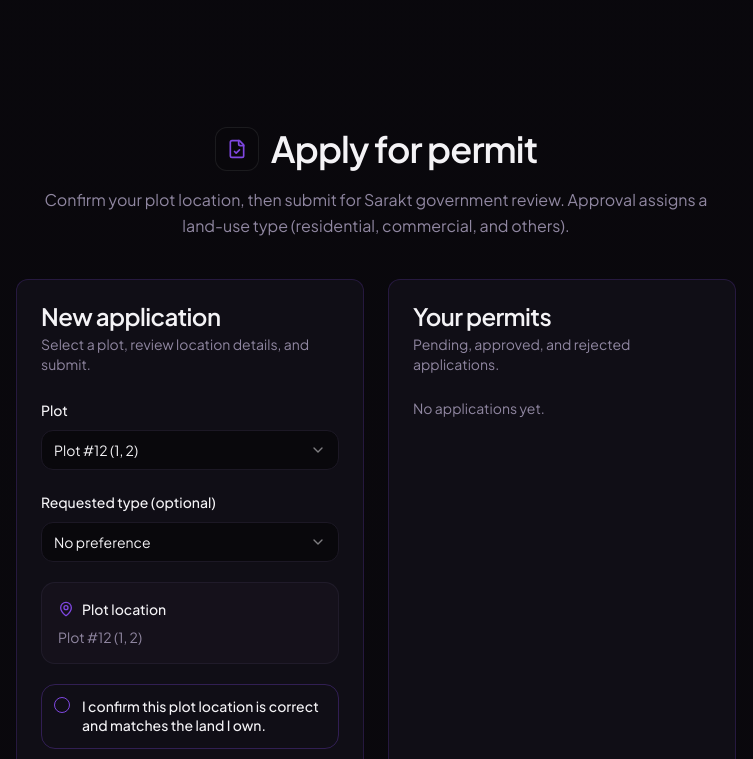
Test case: ApplyForPermit page › disables submit until plot location is confirmed
This screenshot has width=753, height=759.
Expected: the text "plot location" is shown, [44,189,708,236]
Click the checkbox named "I confirm this plot location" at point(62, 705), box [54,697,70,713]
(page scrolled)
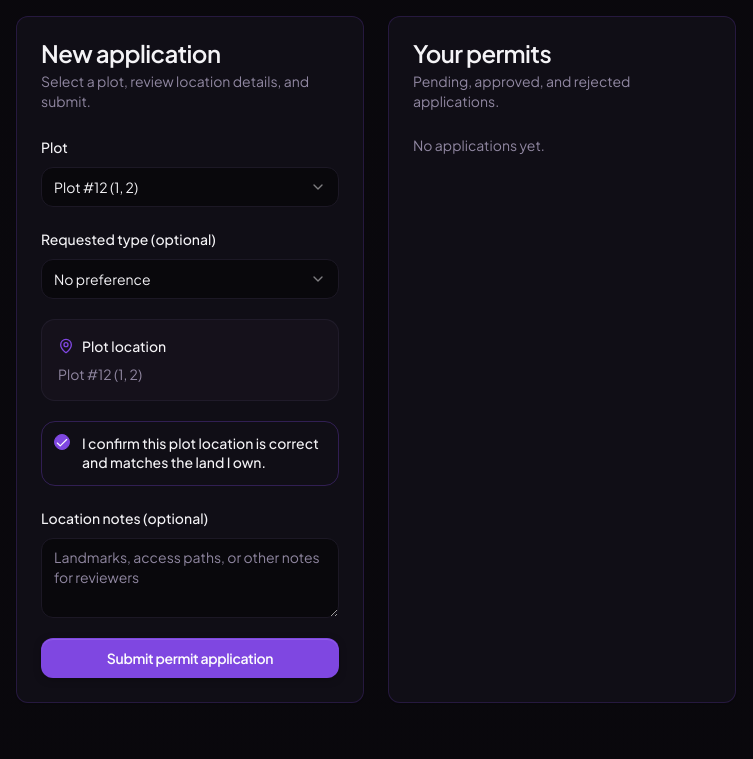
Expected: the button "Submit permit application" is enabled, [41,638,339,678]
